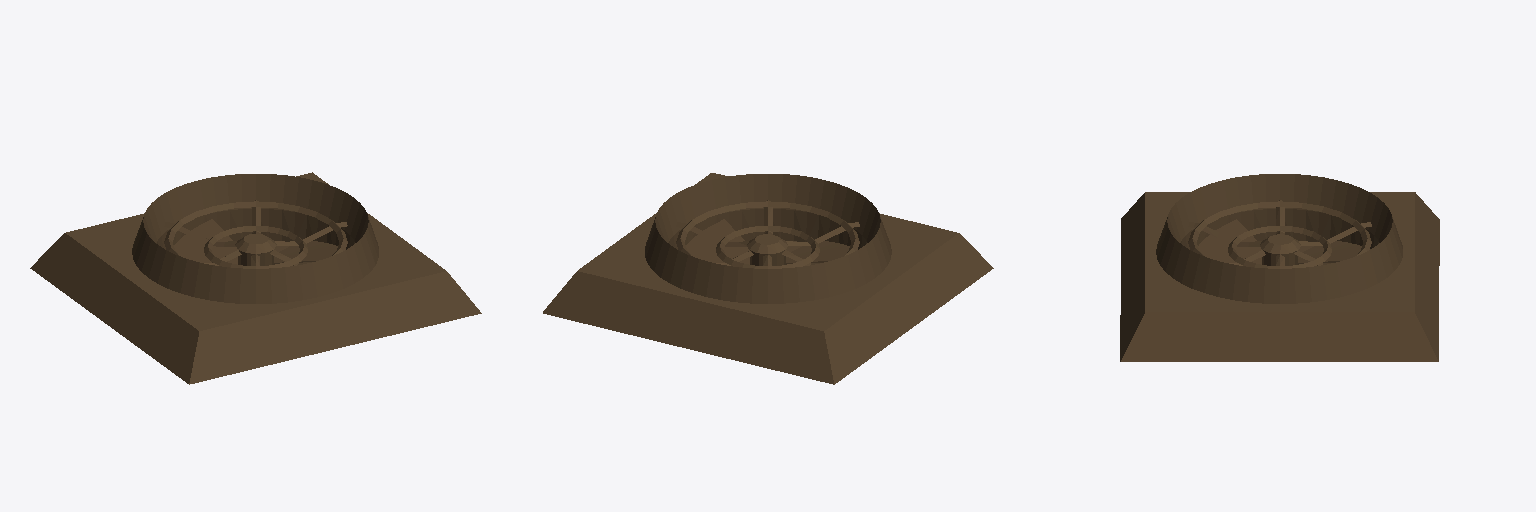
File: Industrial_Fan_2.obj
The picture shows the model from 3 angles: view 1: azimuth 30°, elevation 25°; view 2: azimuth 150°, elevation 25°; view 3: azimuth 270°, elevation 25°; orthographic projection.
Parts seen in each view (by area): view 1: Industrial_Fan_1_Cube.001, Industrial_Fan_2_Cube.000; view 2: Industrial_Fan_1_Cube.001, Industrial_Fan_2_Cube.000; view 3: Industrial_Fan_1_Cube.001, Industrial_Fan_2_Cube.000.
Part boxes in pixels (x1,y1,x2,y2): Industrial_Fan_1_Cube.001: (30,172,481,384); Industrial_Fan_2_Cube.000: (174,219,337,265); Industrial_Fan_1_Cube.001: (543,173,993,384); Industrial_Fan_2_Cube.000: (686,219,849,265); Industrial_Fan_1_Cube.001: (1120,174,1439,361); Industrial_Fan_2_Cube.000: (1198,219,1370,265).
Size of the model in its own units: 2.97 by 0.6743 by 2.8.